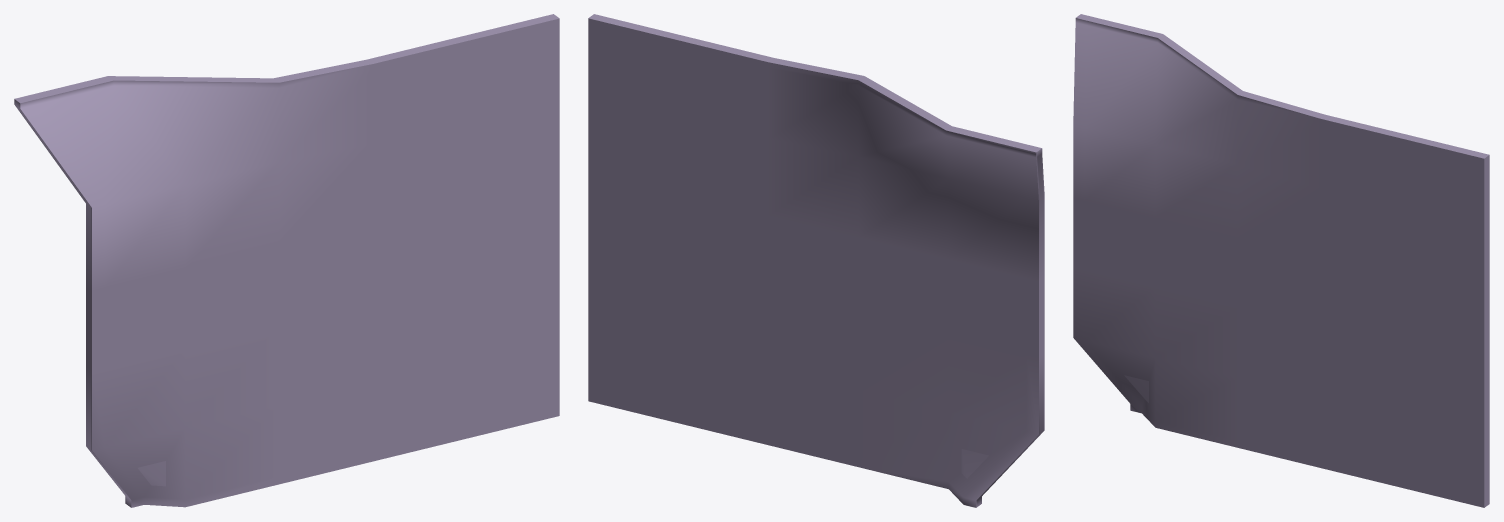
File: Sloth_SmallPosterTwo.fbx
The picture shows the model from 3 angles, left to right: view 1: azimuth 30°, elevation 25°; view 2: azimuth 150°, elevation 25°; view 3: azimuth 330°, elevation 25°; orthographic projection. The views are drawn at different scales.
Parts seen in each view (by area): view 1: poster; view 2: poster; view 3: poster.
Boxes of the visible parts, left/top/right/bottom form: poster: left=14, top=14, right=559, bottom=507; poster: left=588, top=14, right=1044, bottom=507; poster: left=1073, top=14, right=1489, bottom=507.
Bounding box in the file's own units: 1.12 × 0.8712 × 0.1675.
